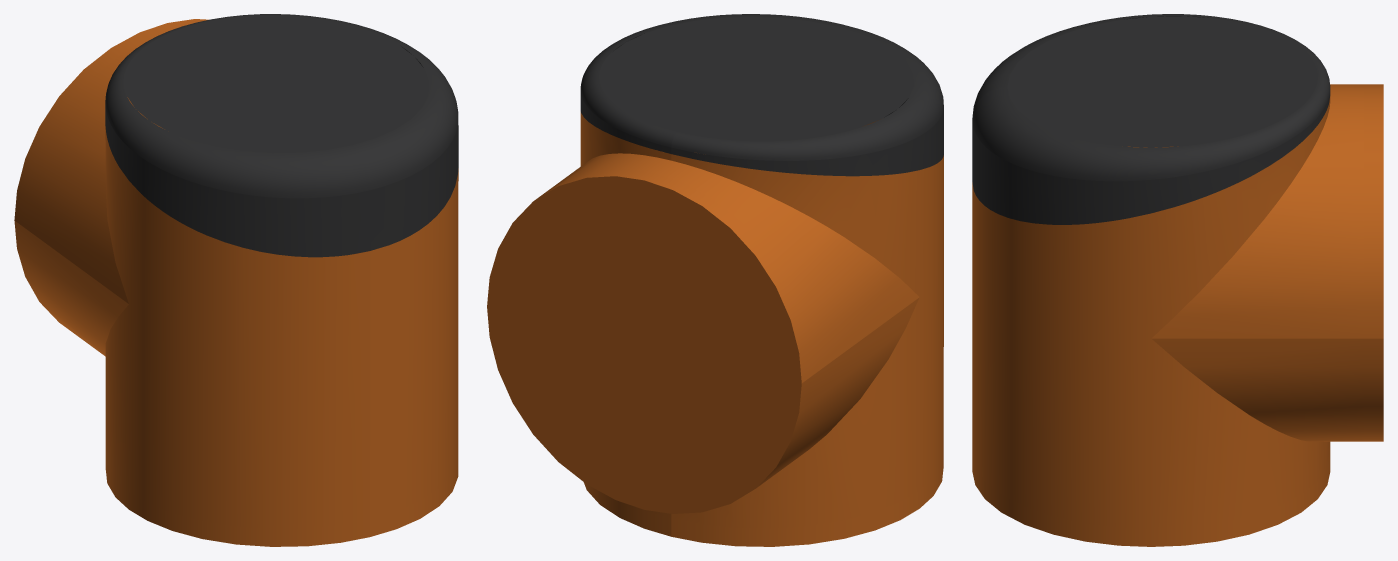
3 renders of one model, left to right at view 1: azimuth 30°, elevation 25°; view 2: azimuth 150°, elevation 25°; view 3: azimuth 270°, elevation 25°, orthographic. The views are drawn at different scales.
Visible parts, largest first — view 1: mesh; view 2: mesh; view 3: mesh.
Boxes of the visible parts, x1,y1,x2,y2 form: mesh: (14, 14, 458, 546); mesh: (487, 14, 943, 546); mesh: (972, 14, 1383, 546).
Bounding box in the file's own units: 148 × 170 × 180.
